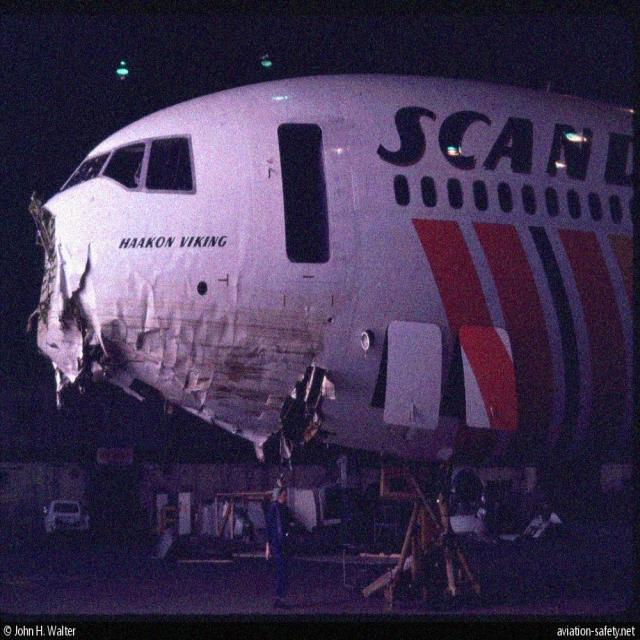crack: (66, 246, 96, 322), (301, 306, 321, 367)
dent: (182, 314, 234, 363), (137, 283, 164, 333), (116, 303, 127, 318)
